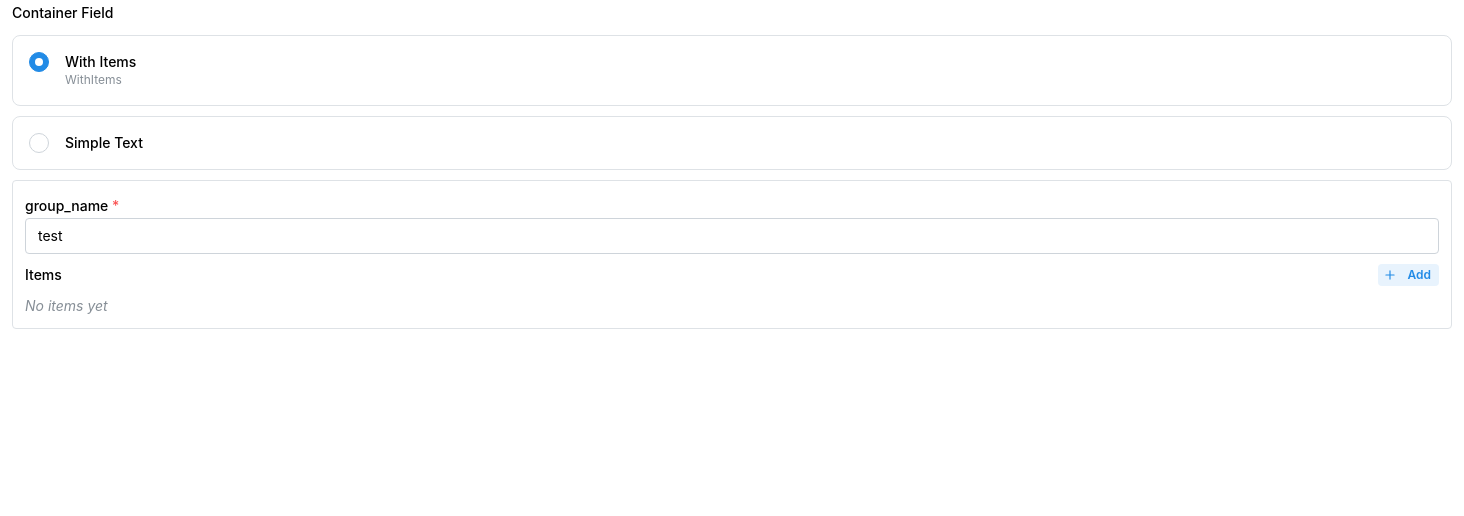
Test: UnionFieldRenderer — nested itemFields sub-field in union variant › can add items to nested array within union variant
Click the button "Add": (1408, 275) [1378,264,1439,286]
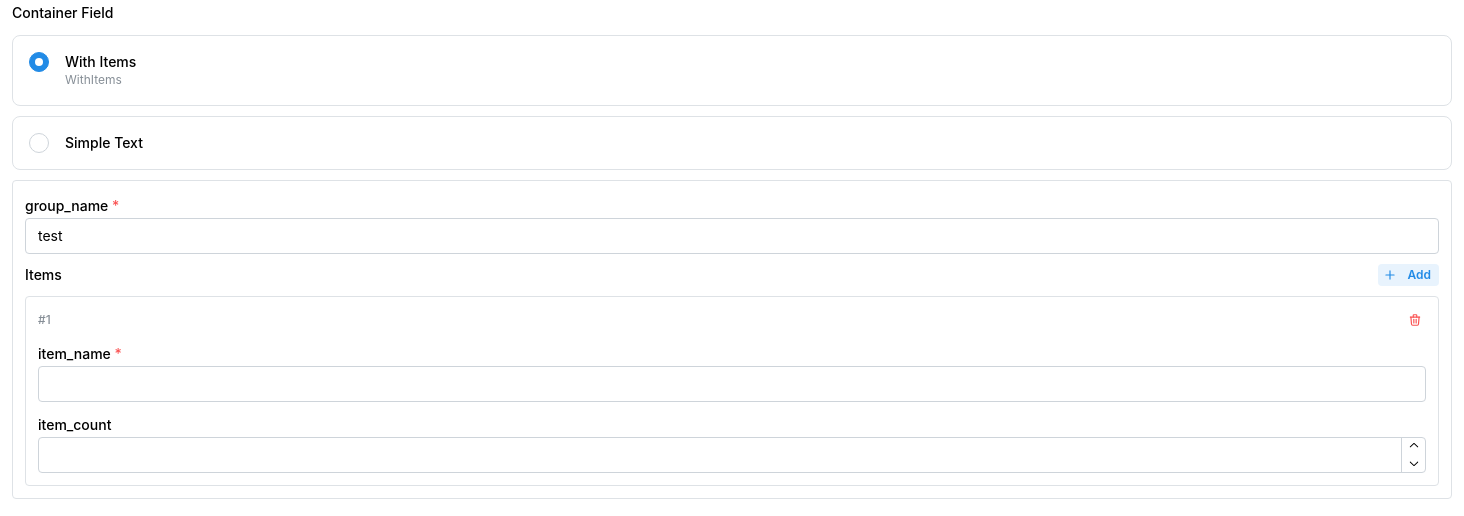
Now the text "item_name" is shown, box [38,345,111,362]
Now the text "item_count" is shown, box [38,414,112,436]
